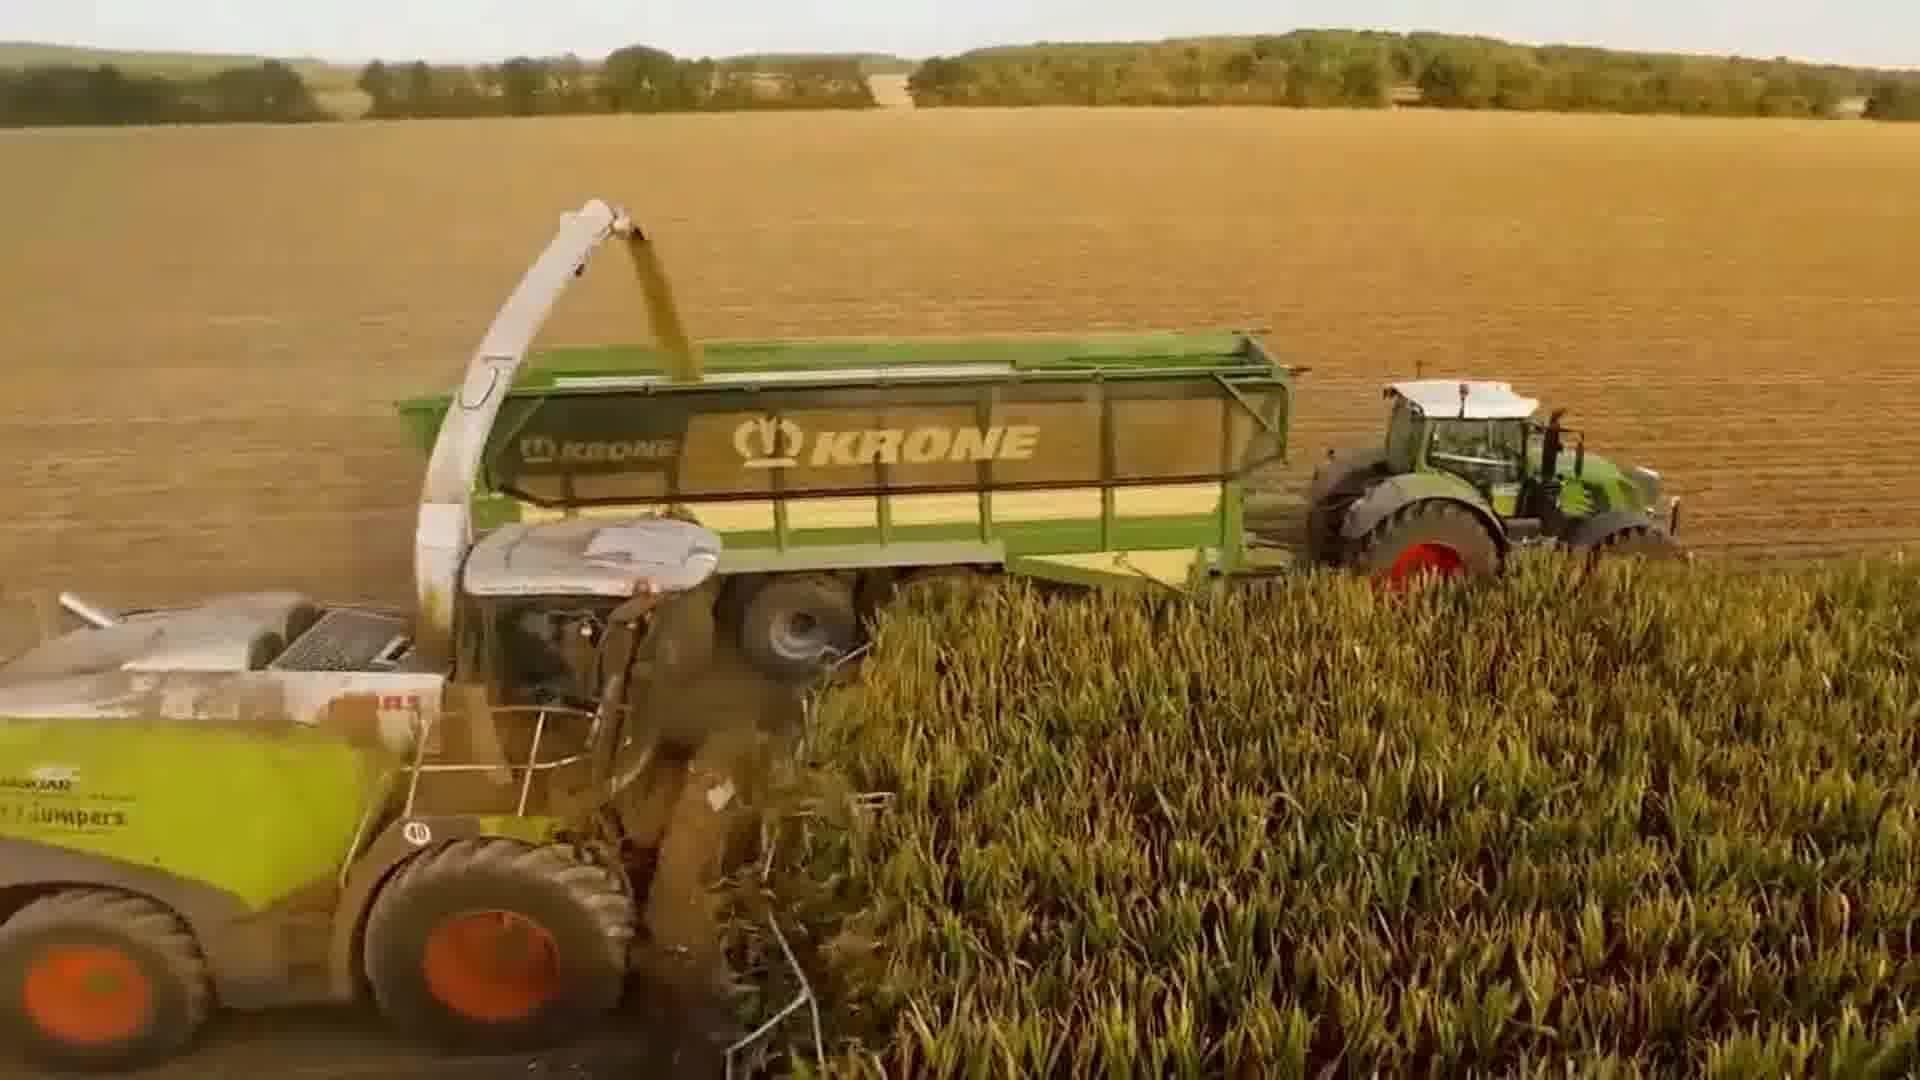combine harvester: (0, 187, 852, 1080)
tractor: (1309, 359, 1700, 622)
trailer: (393, 314, 1308, 679)
